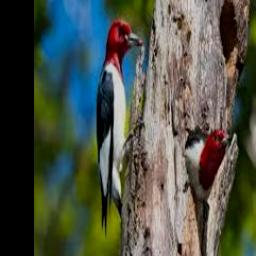Woodpecker: (96, 20, 143, 236), (184, 124, 232, 243)
